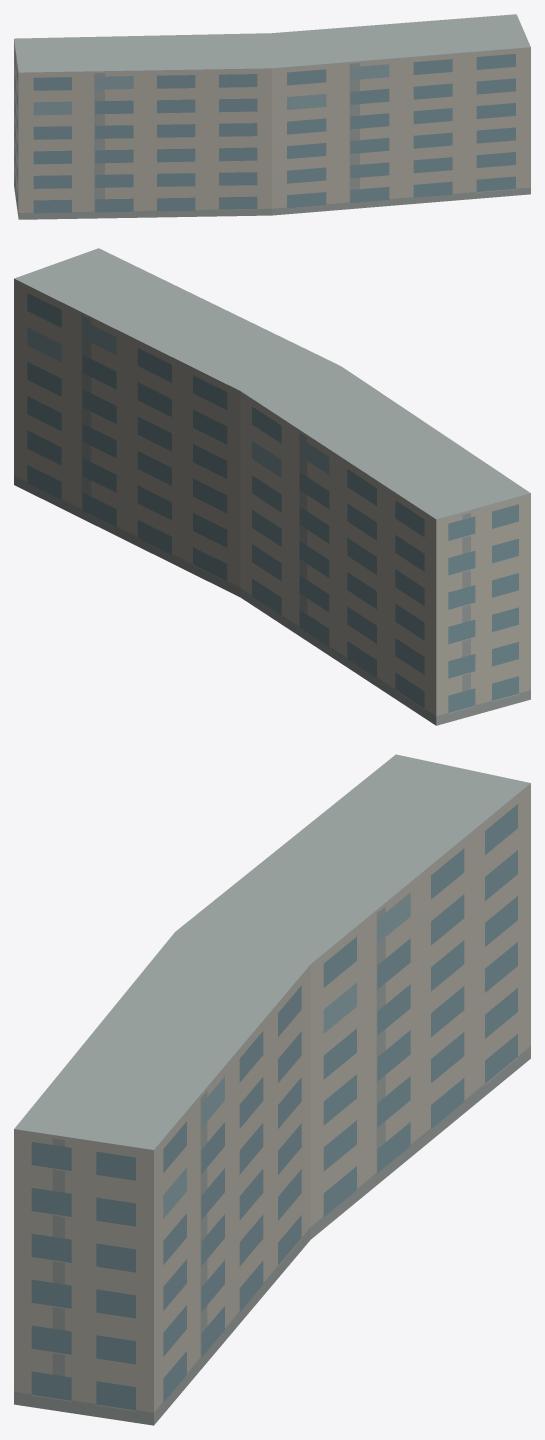
The model's file is residential-e203065a-868a-494f-b46e-becf456395a6.glb.
The picture shows the model from 3 angles, top to bottom: view 1: azimuth 30°, elevation 25°; view 2: azimuth 150°, elevation 25°; view 3: azimuth 270°, elevation 25°; orthographic projection. The views are drawn at different scales.
Visible parts, largest first — view 1: residential-e203065a-868a-494f-b46e-becf456395a6.tmp; view 2: residential-e203065a-868a-494f-b46e-becf456395a6.tmp; view 3: residential-e203065a-868a-494f-b46e-becf456395a6.tmp.
Boxes of the visible parts, x1,y1,x2,y2 form: residential-e203065a-868a-494f-b46e-becf456395a6.tmp: [14, 14, 530, 219]; residential-e203065a-868a-494f-b46e-becf456395a6.tmp: [14, 248, 530, 725]; residential-e203065a-868a-494f-b46e-becf456395a6.tmp: [14, 754, 530, 1425].
Size of the model in its own units: 56.38 by 18.3 by 31.12.
